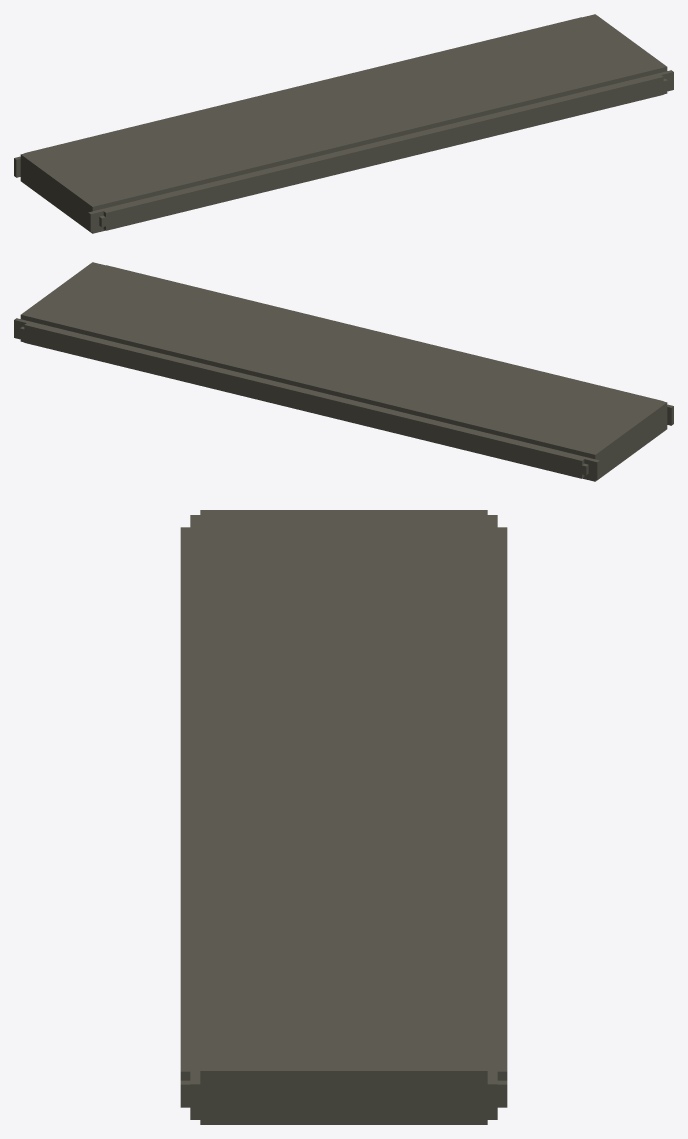
The model's file is factory4.5-4.obj.
3 views of the same model, one above another, from view 1: azimuth 30°, elevation 25°; view 2: azimuth 150°, elevation 25°; view 3: azimuth 270°, elevation 25° (orthographic). The views are drawn at different scales.
Bounding box in the file's own units: 13.6 × 0.6 × 3.3.
1 material, 1 textured.
